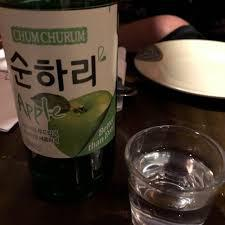soju: (1, 1, 121, 180)
